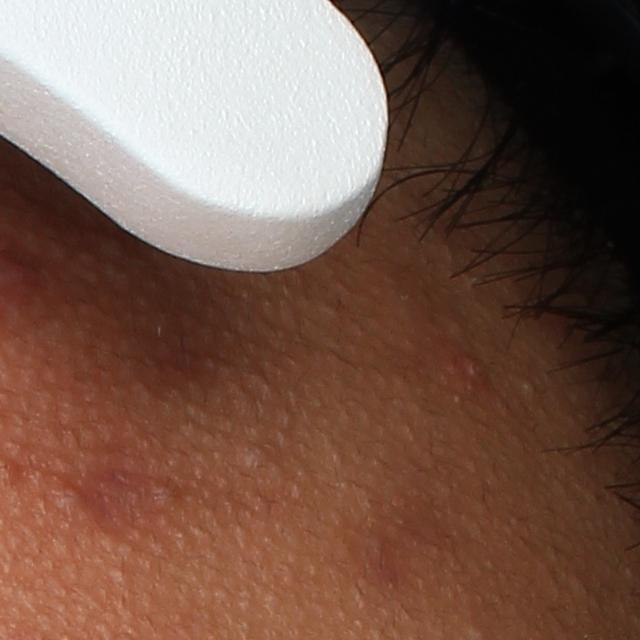comedo: (239, 444, 276, 477)
papule: (456, 350, 493, 390)
